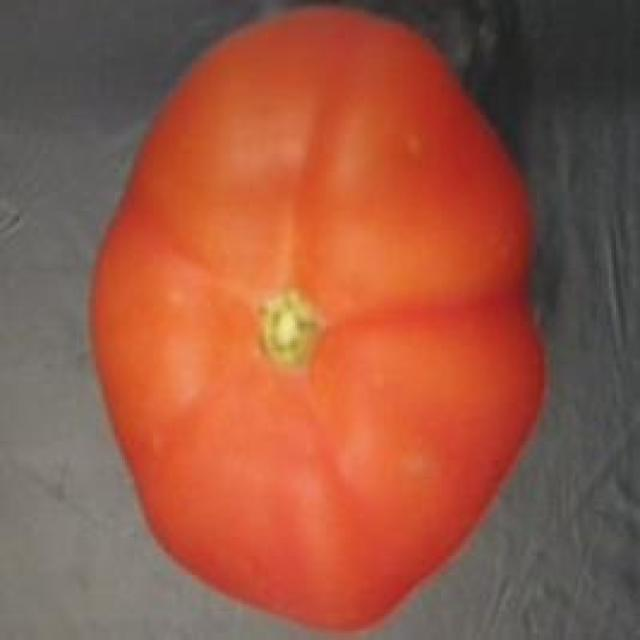overripe tomato: (72, 2, 568, 640)
